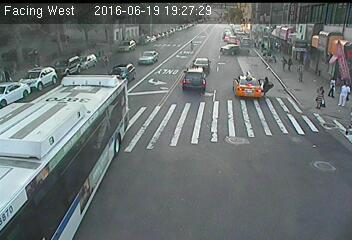neg: (318, 124, 340, 154), (277, 182, 298, 210), (264, 143, 284, 170), (80, 144, 100, 171), (234, 140, 252, 165), (26, 144, 44, 167), (244, 10, 260, 31), (61, 83, 77, 104), (157, 91, 172, 111), (317, 19, 332, 39), (46, 110, 61, 130), (297, 152, 311, 172), (160, 145, 174, 164), (72, 13, 86, 31), (147, 19, 160, 38), (194, 112, 207, 130), (207, 77, 220, 94), (211, 173, 224, 190), (286, 14, 298, 30), (117, 16, 129, 31), (183, 12, 195, 27), (247, 188, 259, 203), (185, 37, 196, 53), (224, 43, 234, 56), (28, 6, 37, 18), (163, 184, 169, 192)
pos: (312, 84, 330, 107), (336, 79, 351, 106), (324, 73, 341, 96), (257, 73, 273, 95), (286, 56, 297, 71), (1, 66, 12, 81), (280, 56, 290, 69)
